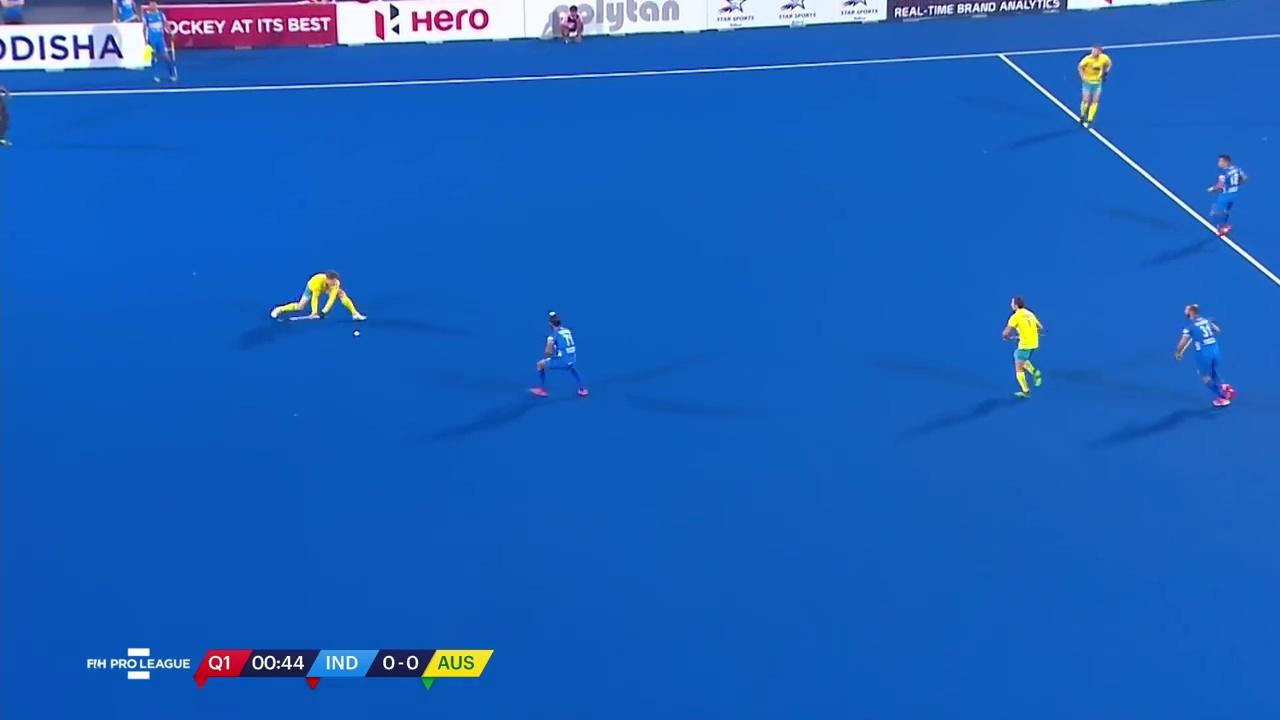ball: (351, 327, 365, 341)
